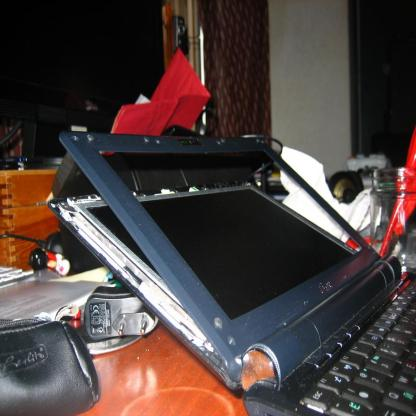board: (47, 126, 416, 416)
